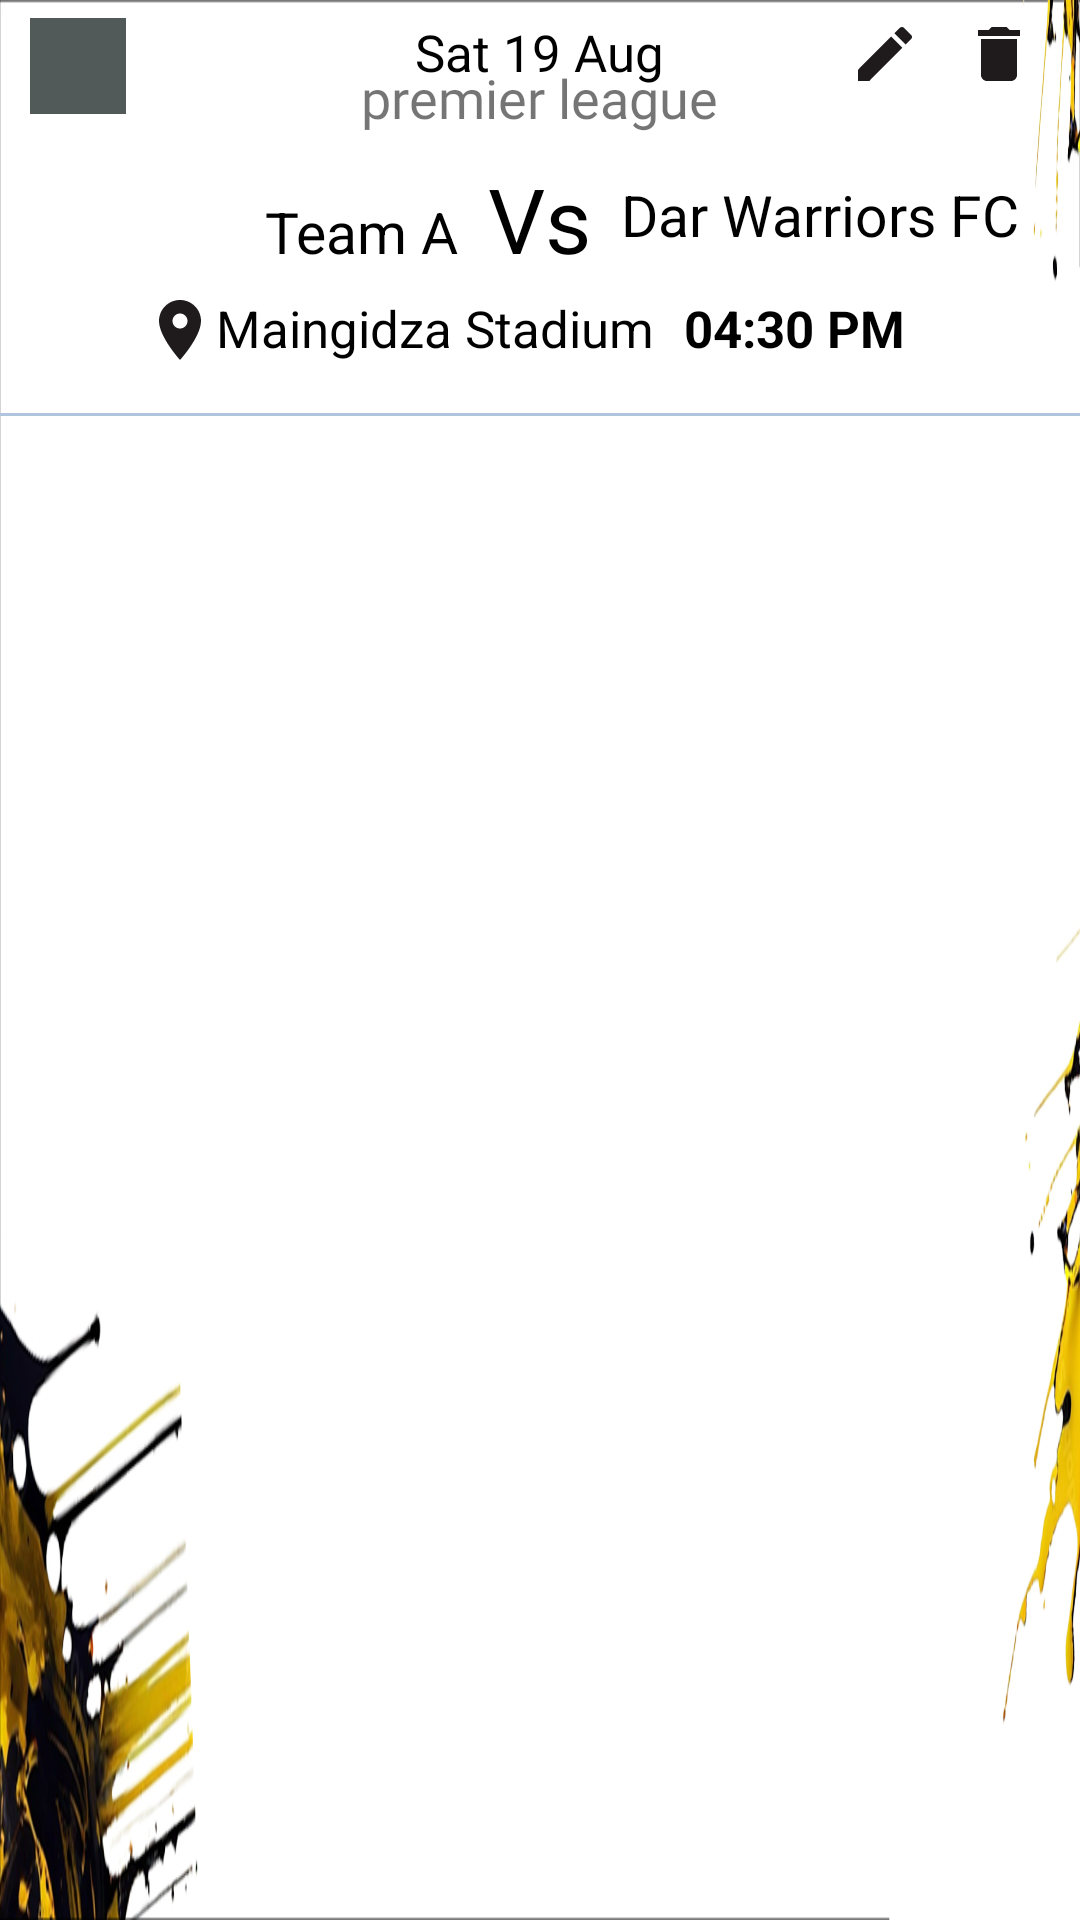

Screen size 1080w x 1920h. Icon name, then its box in pixels as (left=x1, top=y1, right=x2, bottom=y2):
delete: (left=978, top=27, right=1020, bottom=81)
edit: (left=858, top=27, right=912, bottom=81)
location: (left=159, top=300, right=201, bottom=360)
